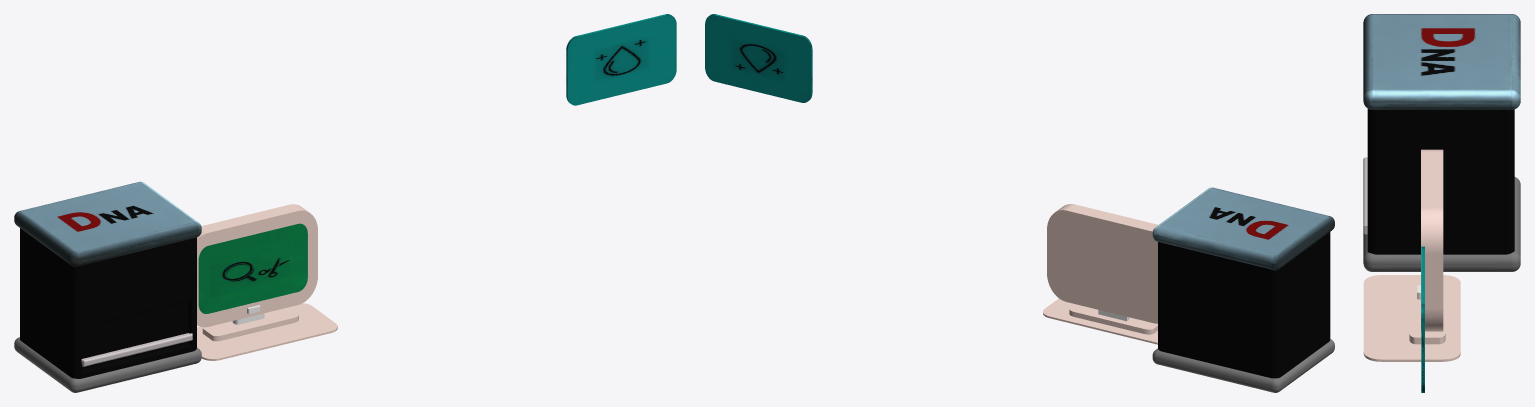
The model's file is 误删！源文件.fbx.
3 views of the same model, side by side, from view 1: azimuth 30°, elevation 25°; view 2: azimuth 150°, elevation 25°; view 3: azimuth 270°, elevation 25° (orthographic). The views are drawn at different scales.
Visible parts, largest first — view 1: 物件_259, 物件_261, 物件_255.004, 物件_255, 物件_256, 物件_258, 物件_252, 物件_260, 物件_251, 物件_257; view 2: 物件_259, 物件_256, 物件_261, 物件_255.004, 物件_260, 物件_252, 物件_251; view 3: 物件_259, 物件_261, 物件_252, 物件_256, 物件_260, 物件_251, 物件_255.004, 物件_257.
Part boxes in pixels (x1=…): 物件_259: x1=20, y1=228, x2=196, y2=378; 物件_261: x1=14, y1=181, x2=201, y2=266; 物件_255.004: x1=566, y1=14, x2=676, y2=105; 物件_255: x1=198, y1=223, x2=307, y2=313; 物件_256: x1=197, y1=204, x2=317, y2=327; 物件_258: x1=81, y1=302, x2=188, y2=369; 物件_252: x1=197, y1=303, x2=337, y2=360; 物件_260: x1=14, y1=337, x2=201, y2=392; 物件_251: x1=202, y1=307, x2=298, y2=341; 物件_257: x1=81, y1=333, x2=192, y2=366; 物件_259: x1=1158, y1=232, x2=1330, y2=378; 物件_256: x1=1047, y1=204, x2=1158, y2=323; 物件_261: x1=1152, y1=187, x2=1334, y2=270; 物件_255.004: x1=705, y1=14, x2=812, y2=102; 物件_260: x1=1152, y1=339, x2=1334, y2=392; 物件_252: x1=1043, y1=298, x2=1157, y2=344; 物件_251: x1=1069, y1=304, x2=1157, y2=334; 物件_259: x1=1367, y1=109, x2=1514, y2=254; 物件_261: x1=1363, y1=14, x2=1520, y2=109; 物件_252: x1=1363, y1=275, x2=1460, y2=361; 物件_256: x1=1421, y1=149, x2=1443, y2=331; 物件_260: x1=1363, y1=177, x2=1520, y2=271; 物件_251: x1=1409, y1=283, x2=1445, y2=344; 物件_255.004: x1=1421, y1=246, x2=1424, y2=392; 物件_257: x1=1363, y1=157, x2=1367, y2=234.
Bounding box in the file's own units: 106 × 34.67 × 17.98.
